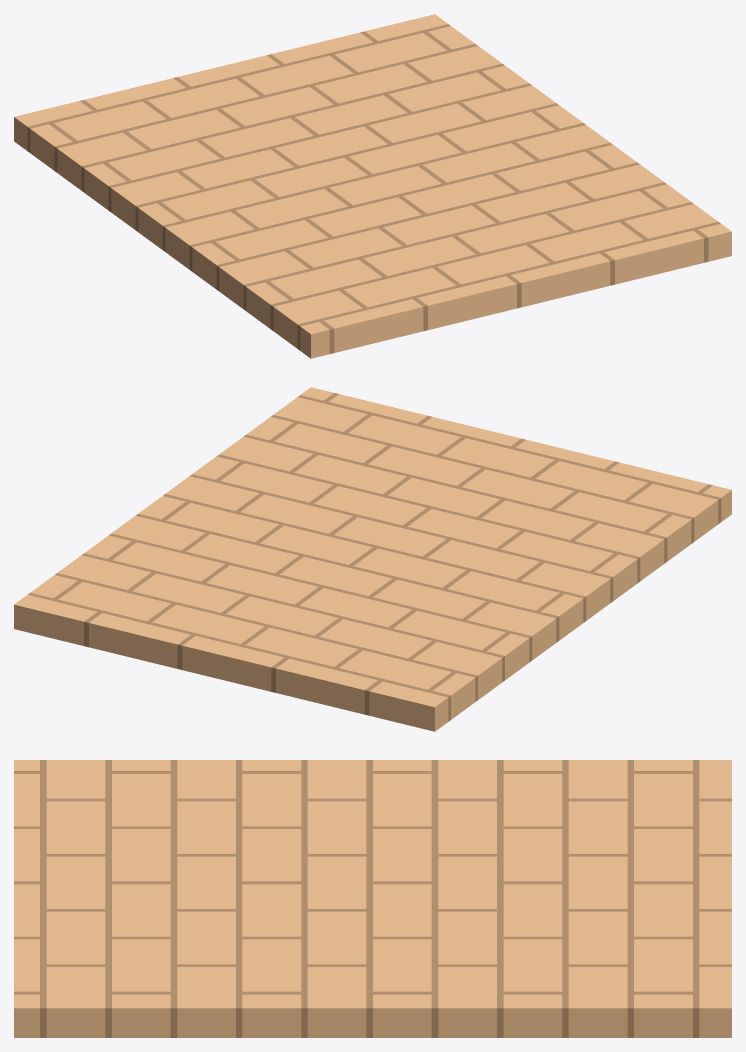
The model's file is floor30.obj.
3 views of the same model, one above another, from view 1: azimuth 30°, elevation 25°; view 2: azimuth 150°, elevation 25°; view 3: azimuth 270°, elevation 25° (orthographic). The views are drawn at different scales.
Bounding box in the file's own units: 9 × 0.5 × 11.
Materials: 1 (1 with a texture image).
